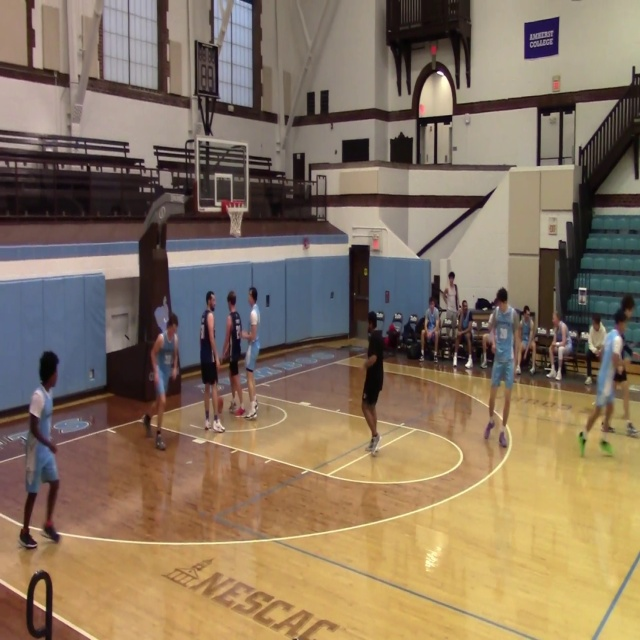Basketball: (430, 44, 437, 54)
